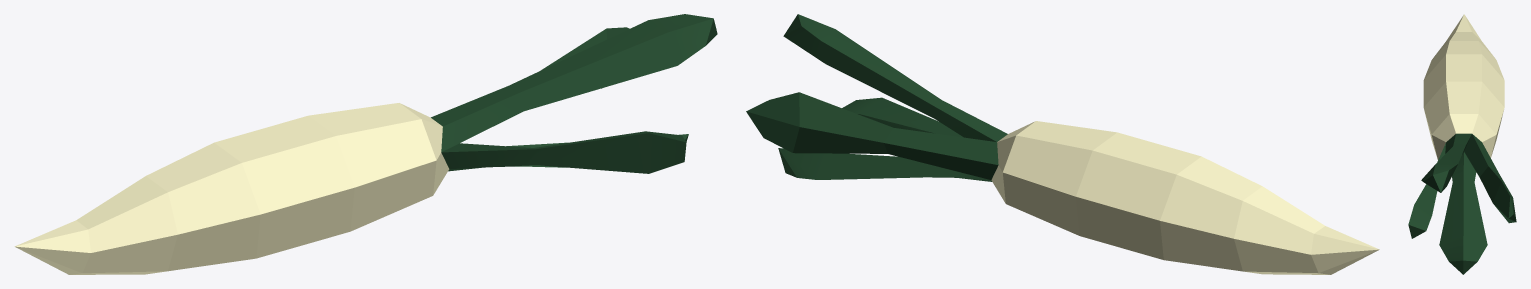
3 views of the same model, side by side, from view 1: azimuth 30°, elevation 25°; view 2: azimuth 150°, elevation 25°; view 3: azimuth 270°, elevation 25° (orthographic). The views are drawn at different scales.
Visible parts, largest first — view 1: 萝卜; view 2: 萝卜; view 3: 萝卜.
Boxes of the visible parts, x1,y1,x2,y2 form: 萝卜: [14, 14, 717, 274]; 萝卜: [746, 14, 1379, 274]; 萝卜: [1408, 14, 1516, 274].
Bounding box in the file's own units: 56.82 × 11.98 × 12.56.
